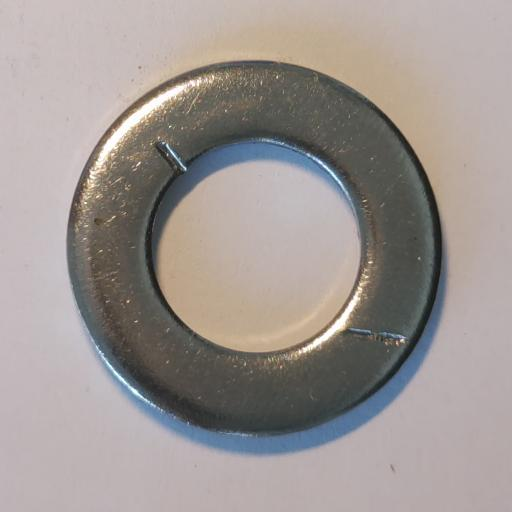scratch: (343, 328, 409, 346), (156, 142, 187, 174)
